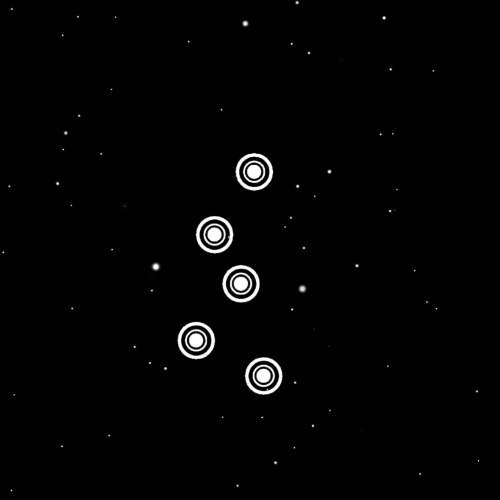cassiopeia: (160, 136, 304, 419)
